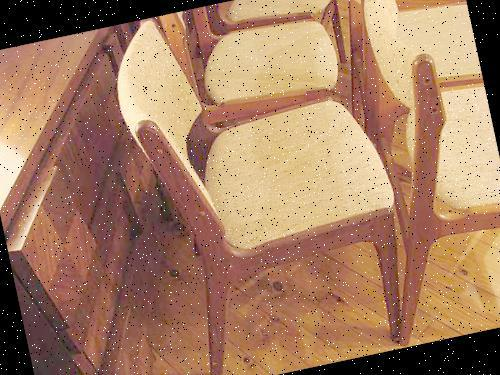Silla: (104, 0, 426, 374)
